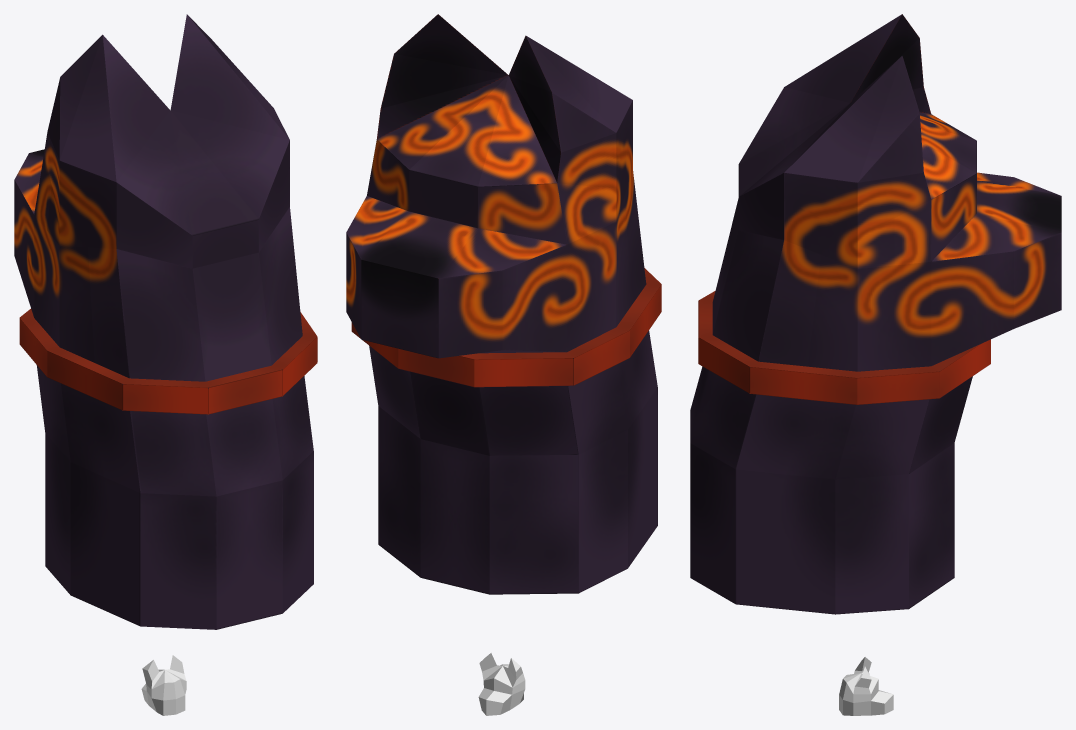
The model's file is Cerberus.fbx.
3 renders of one model, left to right at view 1: azimuth 30°, elevation 25°; view 2: azimuth 150°, elevation 25°; view 3: azimuth 270°, elevation 25°, orthographic. The views are drawn at different scales.
Visible parts, largest first — view 1: cylinder_1, cylinder; view 2: cylinder_1, cylinder; view 3: cylinder_1, cylinder.
Boxes of the visible parts, x1=… form: cylinder_1: x1=14, y1=14, x2=317, y2=629; cylinder: x1=141, y1=655, x2=186, y2=715; cylinder_1: x1=346, y1=14, x2=661, y2=594; cylinder: x1=478, y1=653, x2=525, y2=715; cylinder_1: x1=690, y1=14, x2=1061, y2=614; cylinder: x1=839, y1=657, x2=893, y2=715.
Bounding box in the file's own units: 118 × 313 × 156.
1 material, 1 textured.
